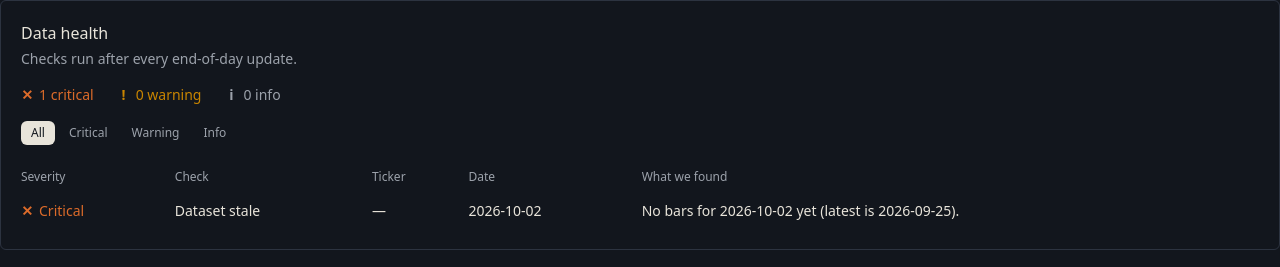
Test: DataHealthPanel › leads with critical problems and filters by severity
The image size is (1280, 267).
Expected: the text "1 critical" is shown, [39,85,94,105]
Expected: the text "Dataset stale" is shown, [175,193,372,229]
Click the button "Info".
click(215, 133)  # box [194,121,236,145]
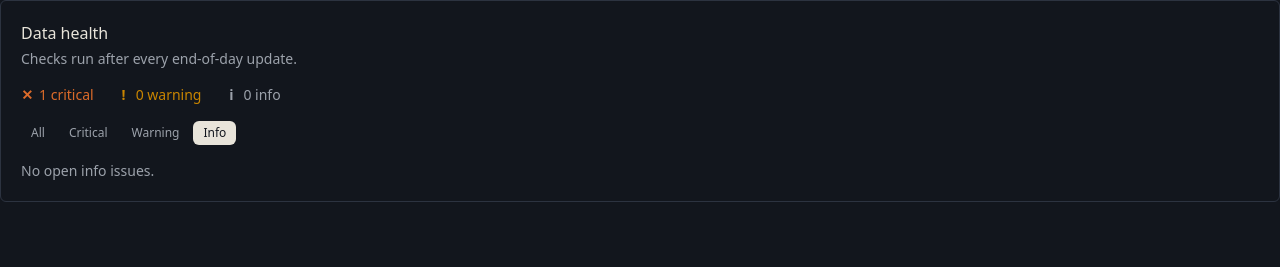
Result: the text "No open info issues." is shown at [21,161,154,180]
